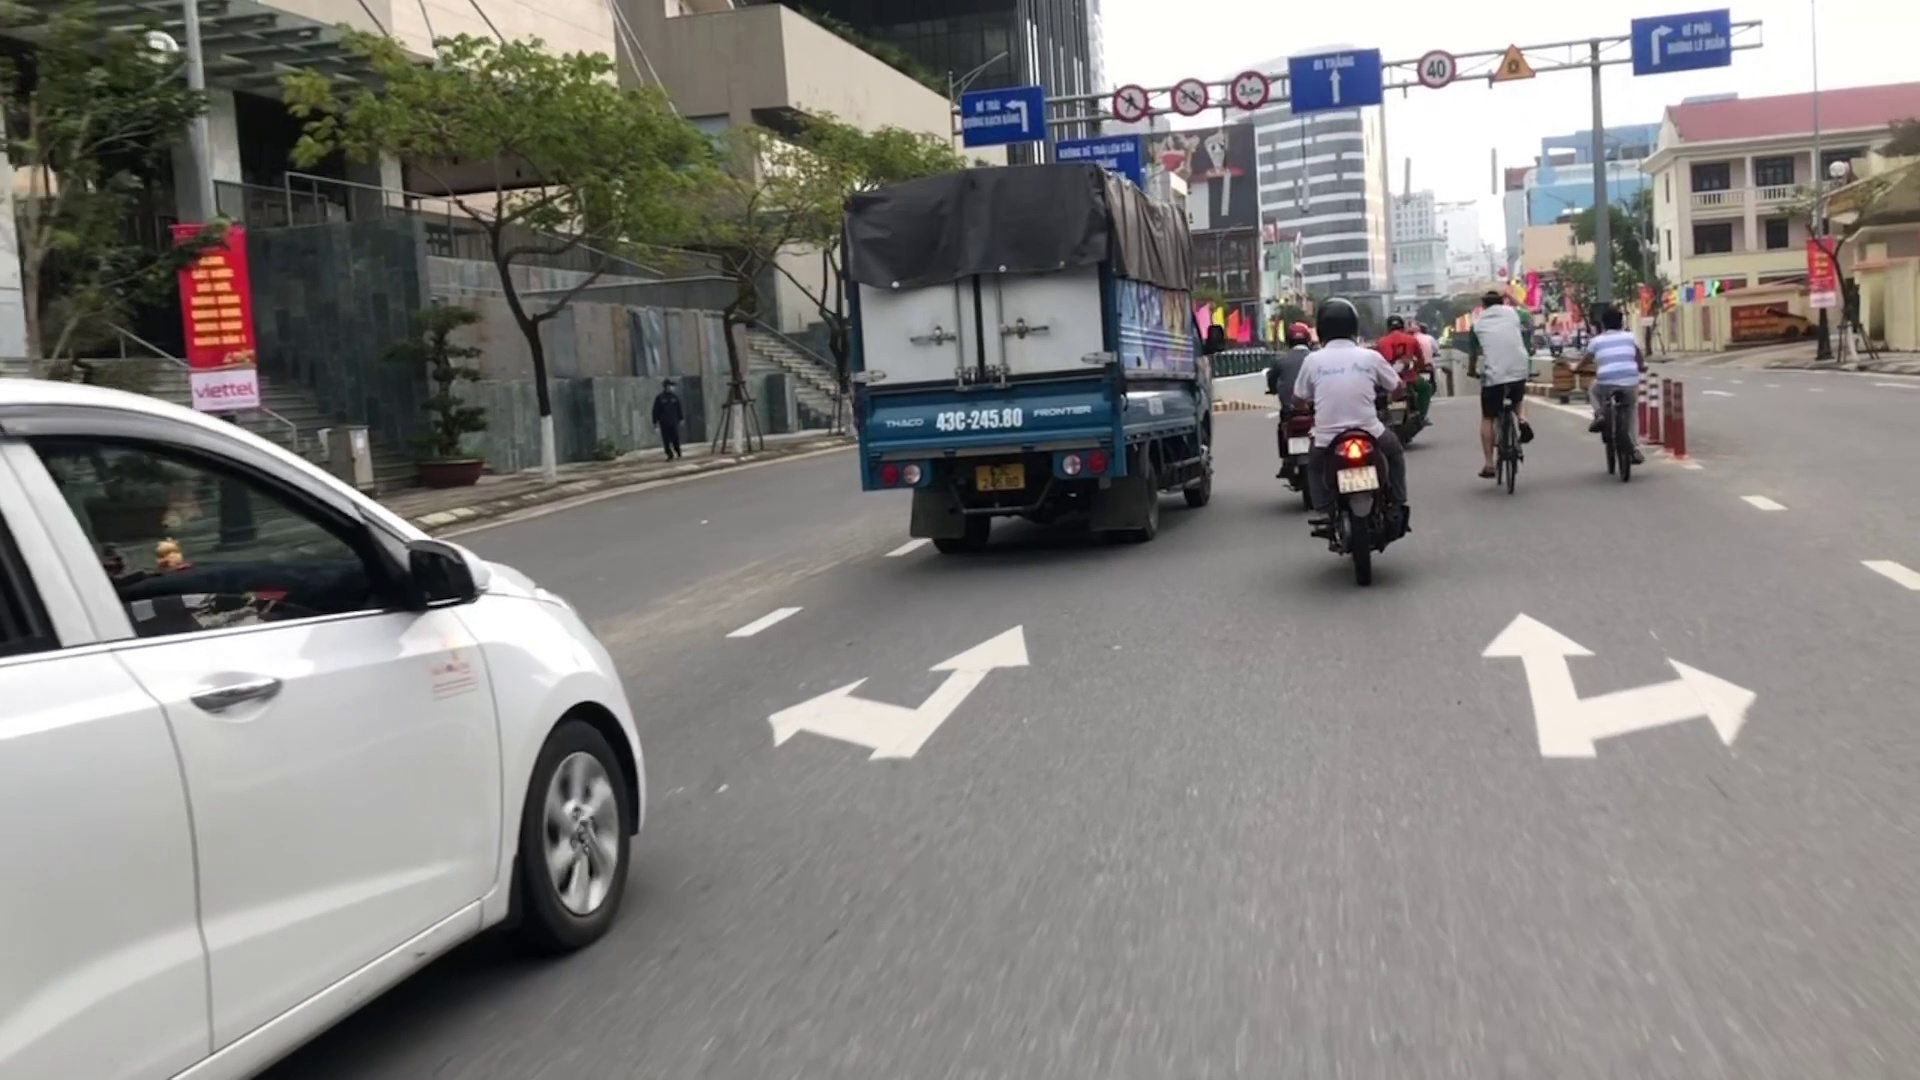Bien khac: (1104, 79, 1153, 123), (1487, 41, 1534, 83), (1418, 47, 1458, 88), (1232, 69, 1270, 109), (1167, 80, 1207, 116)
